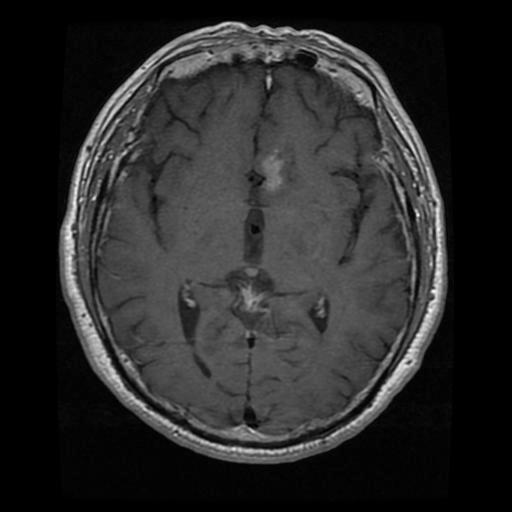Tumour-Pituitary: (223, 262, 273, 334), (248, 151, 299, 200)
